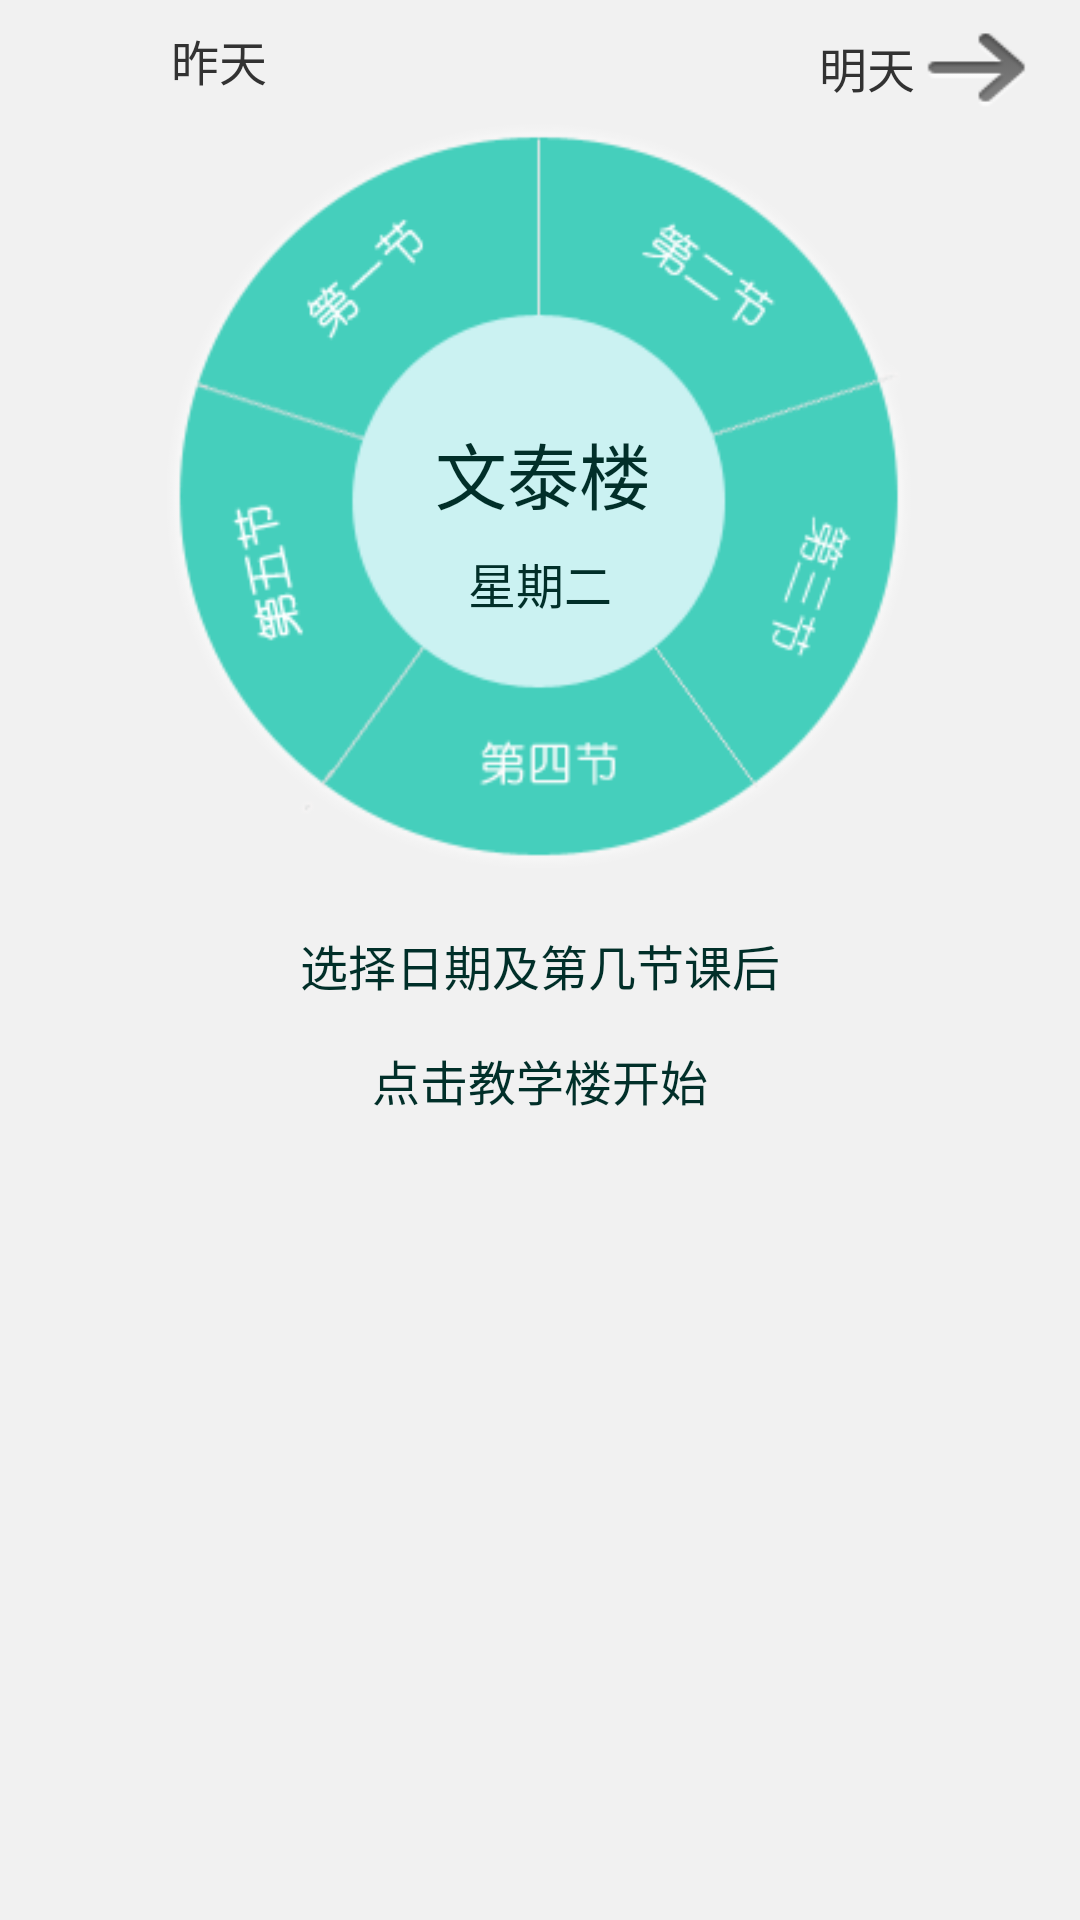

Icon bounding boxes for this 1080w x 1920h phone screenshot, format [x1, y1, x2, y2]:
classroom day after: [927, 33, 1025, 102]
